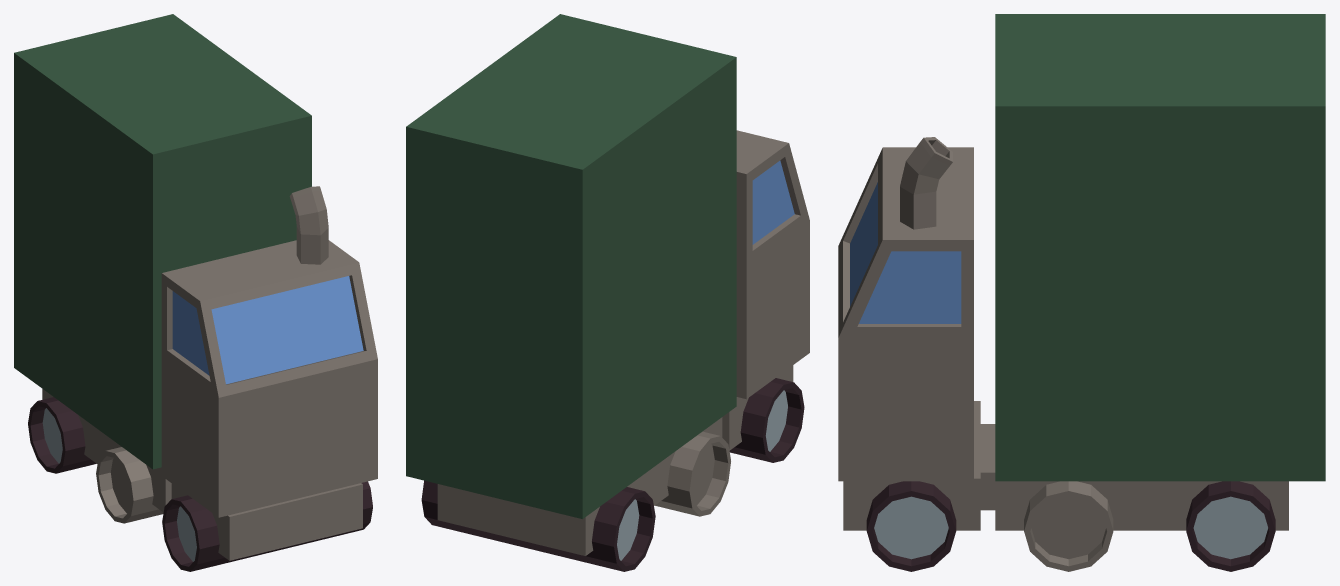
File: Truck.fbx
3 views of the same model, side by side, from view 1: azimuth 30°, elevation 25°; view 2: azimuth 150°, elevation 25°; view 3: azimuth 270°, elevation 25° (orthographic). The views are drawn at different scales.
Visible parts, largest first — view 1: Cube; view 2: Cube; view 3: Cube.
Part boxes in pixels (bbox=[...]): Cube: bbox=[14, 14, 377, 571]; Cube: bbox=[406, 14, 809, 571]; Cube: bbox=[838, 14, 1325, 571].
Size of the model in its own units: 92.77 by 198 by 190.
